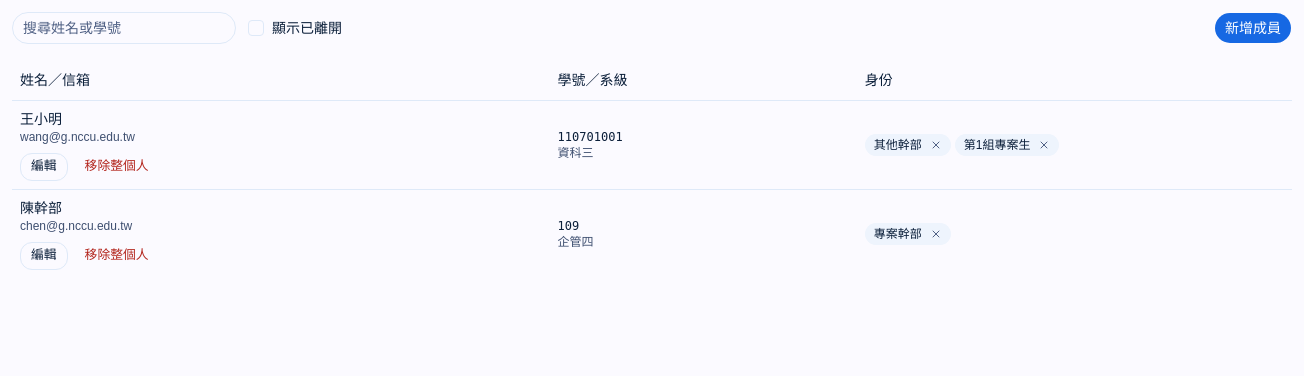
Test: MembersSection（管理員頁成員區塊） › 勾選「顯示已離開」→ 已離開的人出現並標已離開
The image size is (1304, 376).
Click the checkbox named "顯示已離開" at point(256, 28), box [248,20,264,36]
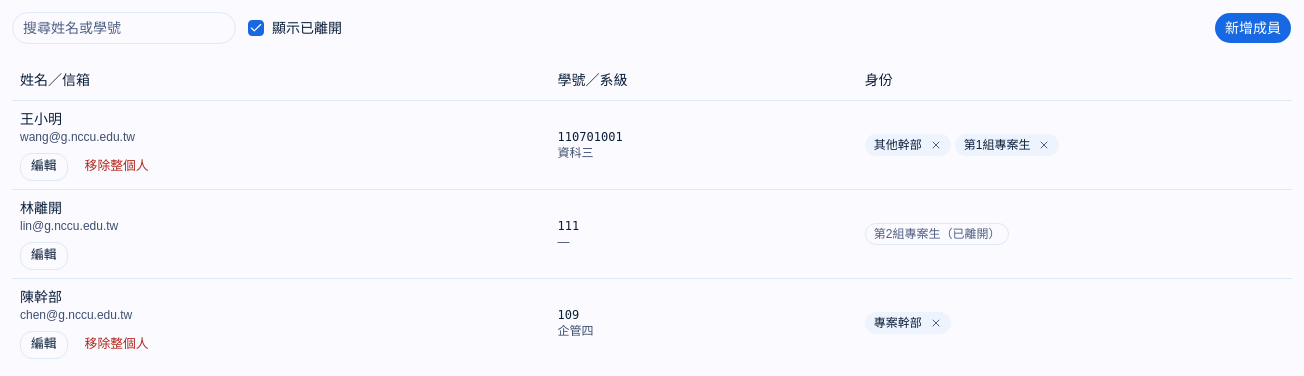
Now the text "第2組專案生（已離開）" is shown, box [865,222,1010,244]
